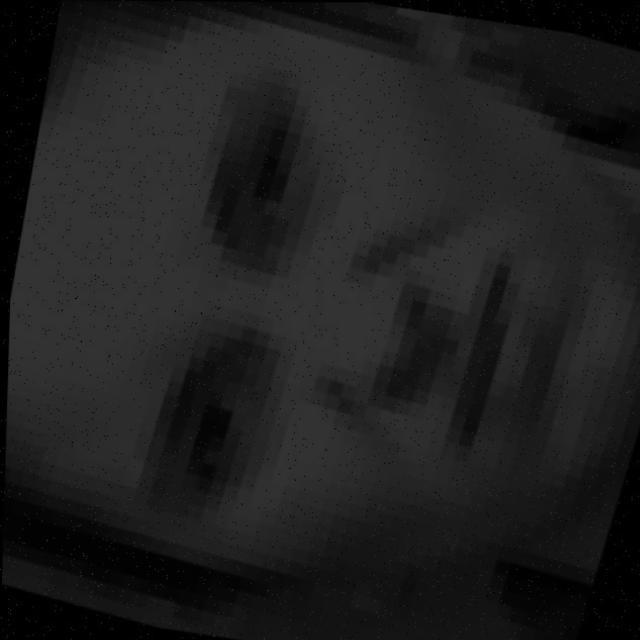Disgust: (52, 59, 590, 576)
